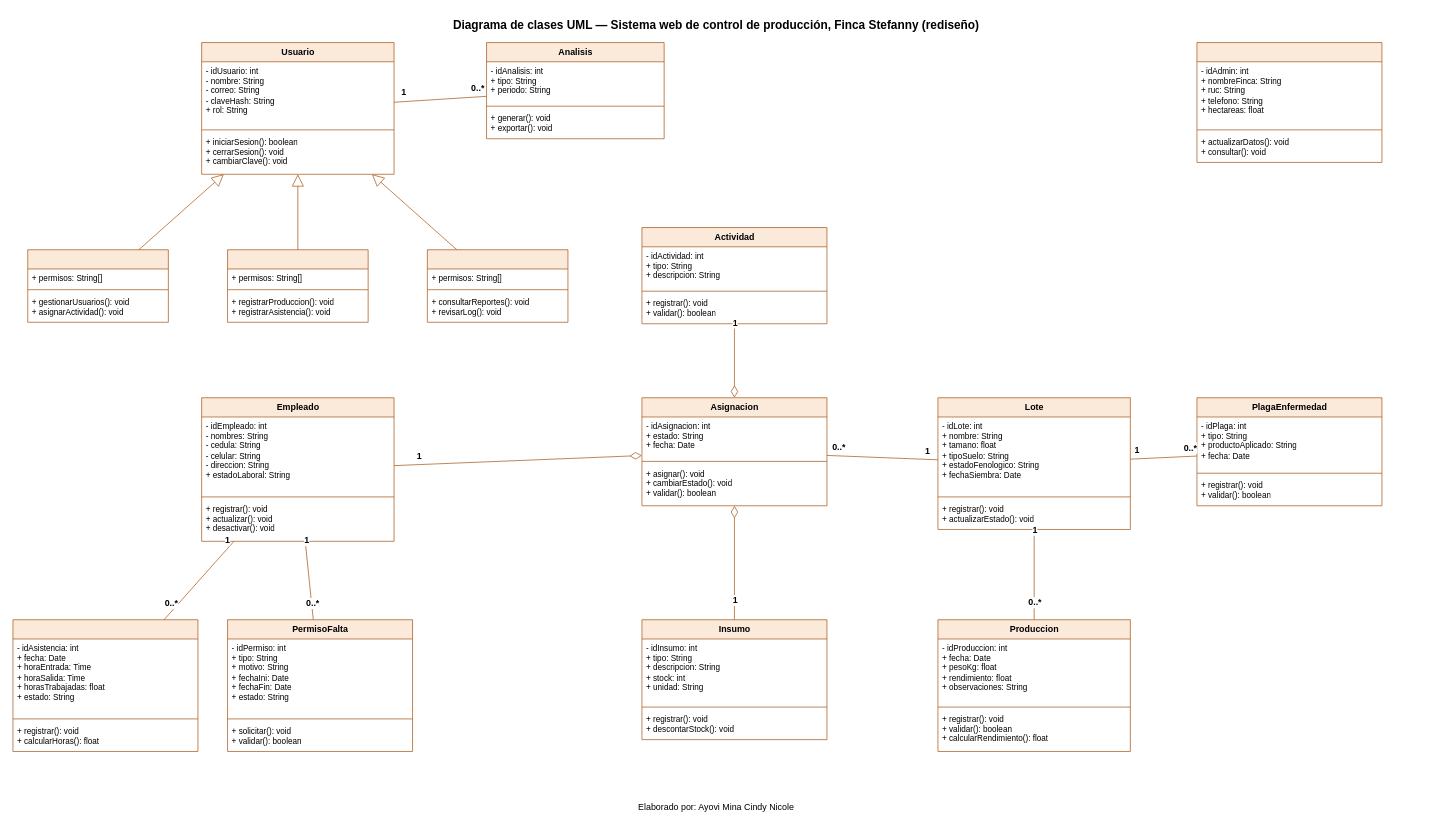
Some shapes in this 1432 by 832 pixel diagram are drawn without their labels. The shapes that lost their labels are listed below. From the top down, each one's box as (x1, y1, x2, y2) in pixels, then its label:
(1196, 42, 1382, 162): Administracion
(27, 249, 168, 322): Administrador
(227, 249, 368, 322): Operario
(427, 249, 568, 322): Auditor
(12, 619, 198, 751): ControlAsistencia
